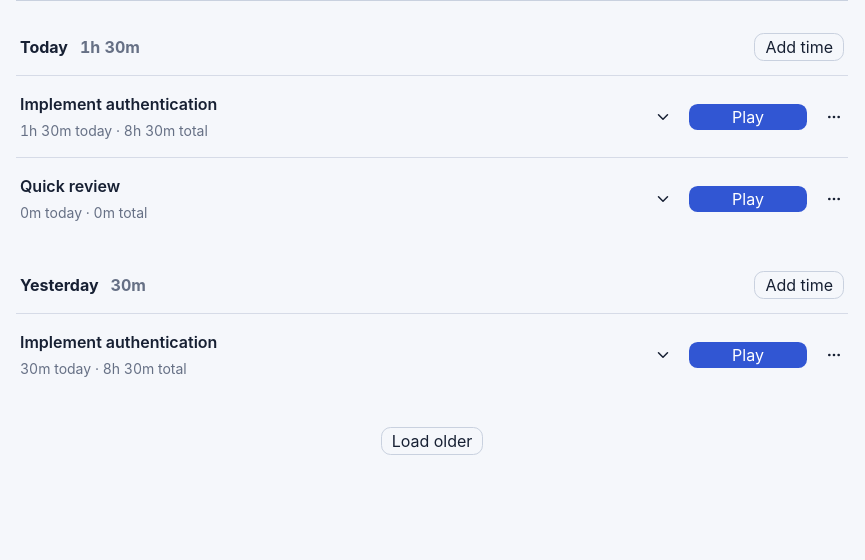
DailyHistory › renders day and task totals and expands rows independently
Expected: the heading "Today" is shown, [20,35,68,59]
Expected: the heading "Yesterday" is shown, [20,273,98,297]
Click the button "Implement authentication" at (119, 104), box [16,76,676,157]
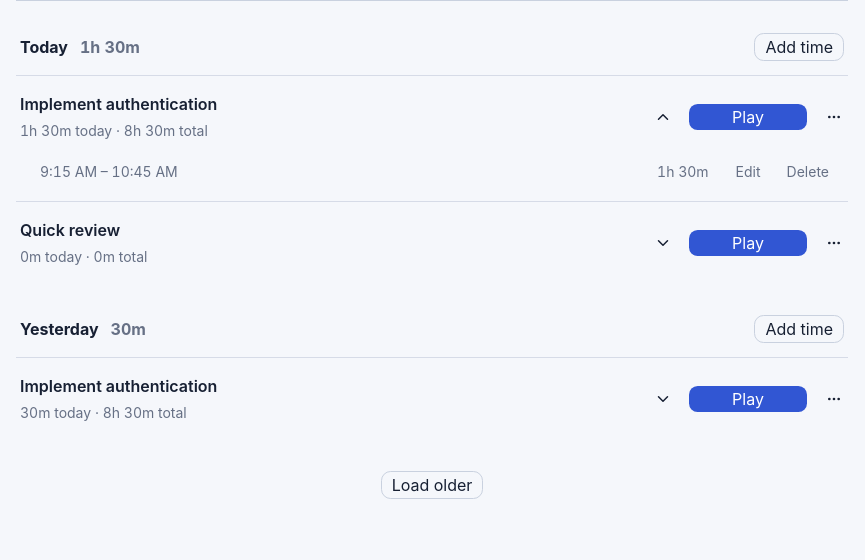
Expected: the button "Implement authentication" is expanded, [16,76,676,157]
Click the button "Implement authentication" at (119, 386), box [16,358,676,439]
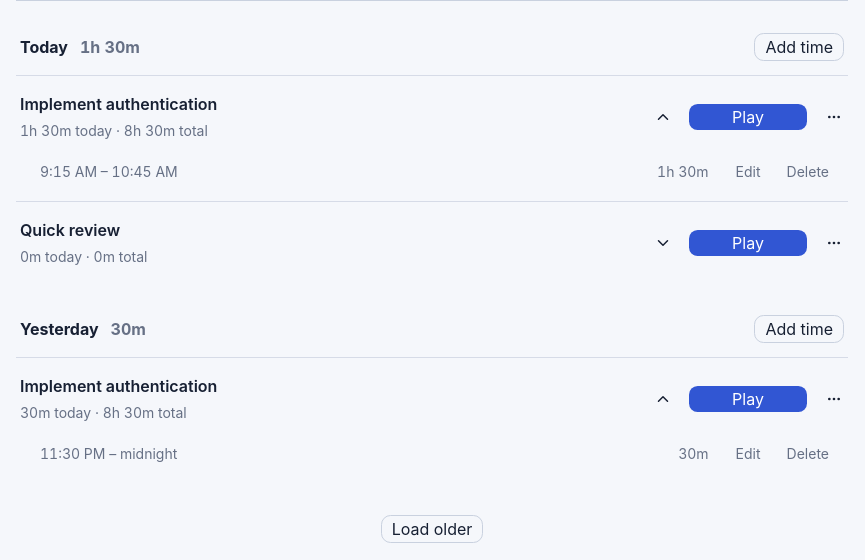
Expected: the button "Implement authentication" is expanded, [16,76,676,157]
Expected: the number of lists is 2, [16,157,848,201]; [16,439,848,483]
Expected: the list item with aria-label "to midnight, 30m" is shown, [40,439,840,467]
